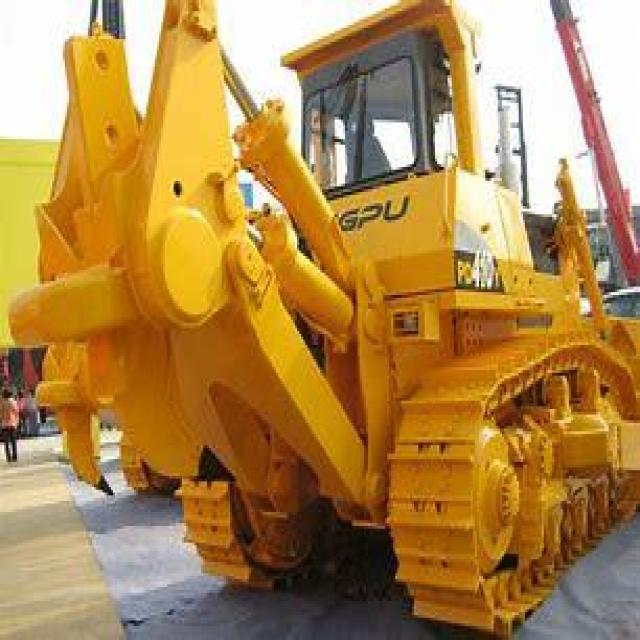buldozerpayloadergrader: (15, 3, 638, 629)
